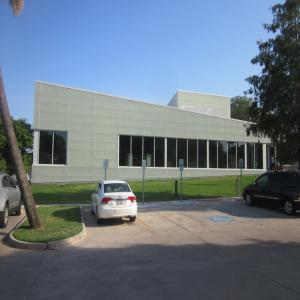Vehicle-registration-plate: (117, 201, 125, 207)
